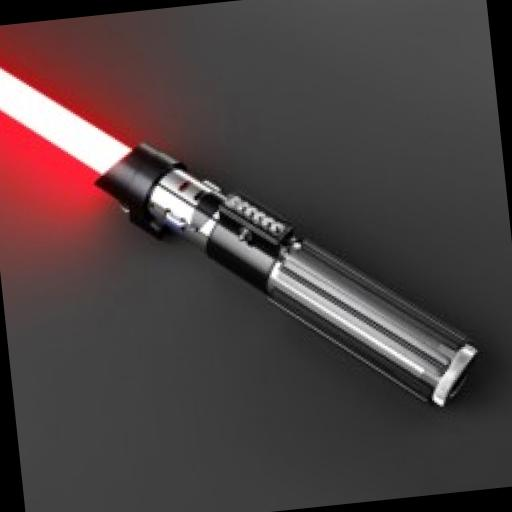sith saber: (0, 2, 486, 456)
